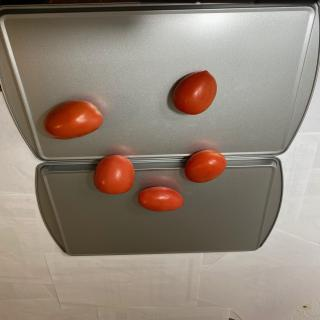Tomato: (42, 100, 104, 140), (172, 70, 217, 115), (93, 154, 135, 194), (184, 149, 227, 183), (138, 186, 184, 212)
